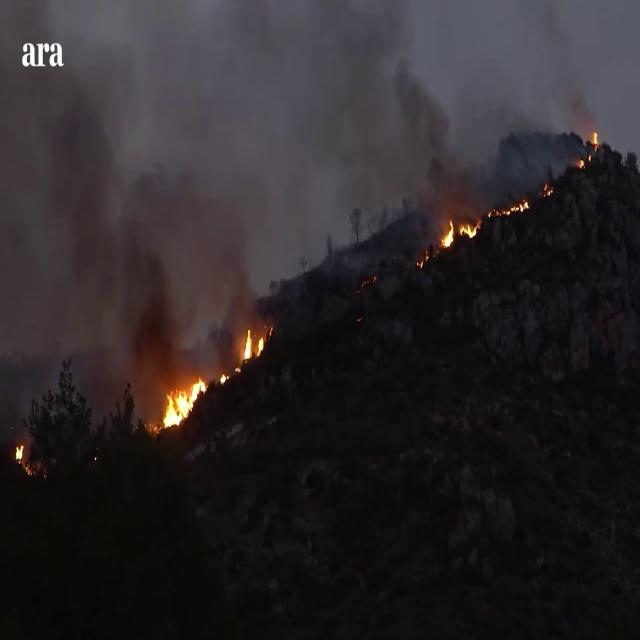Fire: (160, 372, 207, 432), (238, 321, 268, 372), (572, 124, 602, 169), (438, 218, 458, 253), (12, 436, 30, 472), (458, 213, 481, 241)
Smoke: (0, 4, 250, 408), (314, 26, 472, 236)
